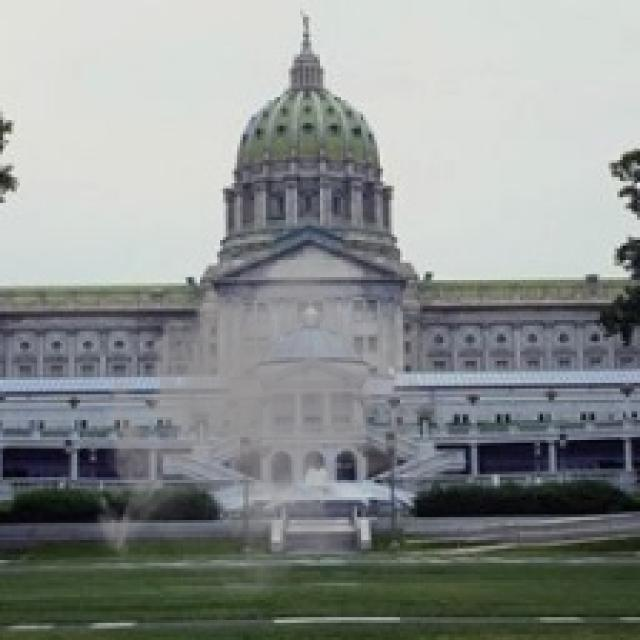smoke: (86, 240, 446, 617)
